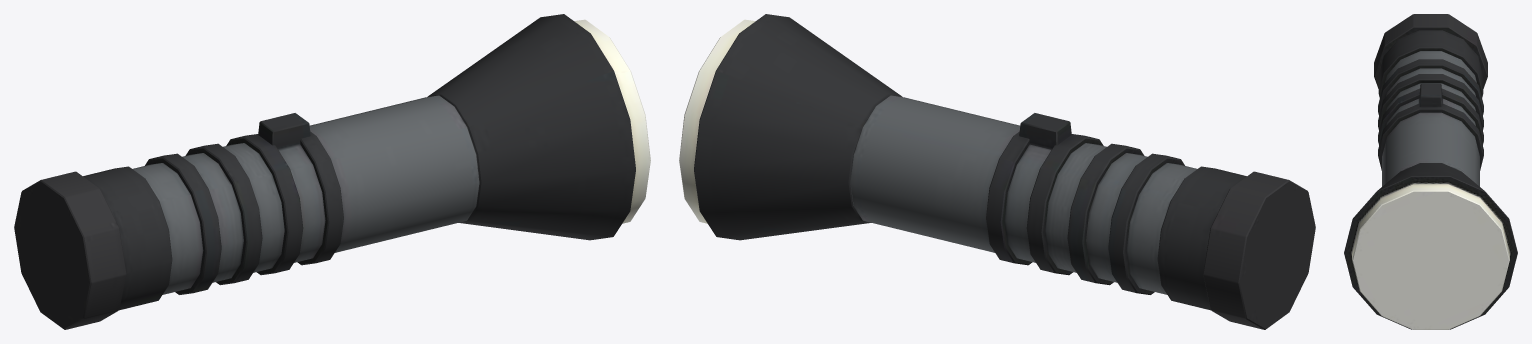
File: IT_flashlight.glb
3 renders of one model, left to right at view 1: azimuth 30°, elevation 25°; view 2: azimuth 150°, elevation 25°; view 3: azimuth 270°, elevation 25°, orthographic. The views are drawn at different scales.
Visible parts, largest first — view 1: IT_flashlight; view 2: IT_flashlight; view 3: IT_flashlight.
Part boxes in pixels (x1,y1,x2,y2): IT_flashlight: (14,14,650,329); IT_flashlight: (679,14,1315,329); IT_flashlight: (1344,14,1517,329).
Size of the model in its own units: 0.67 by 0.243 by 0.2492.
Materials: 1 (1 with a texture image).
